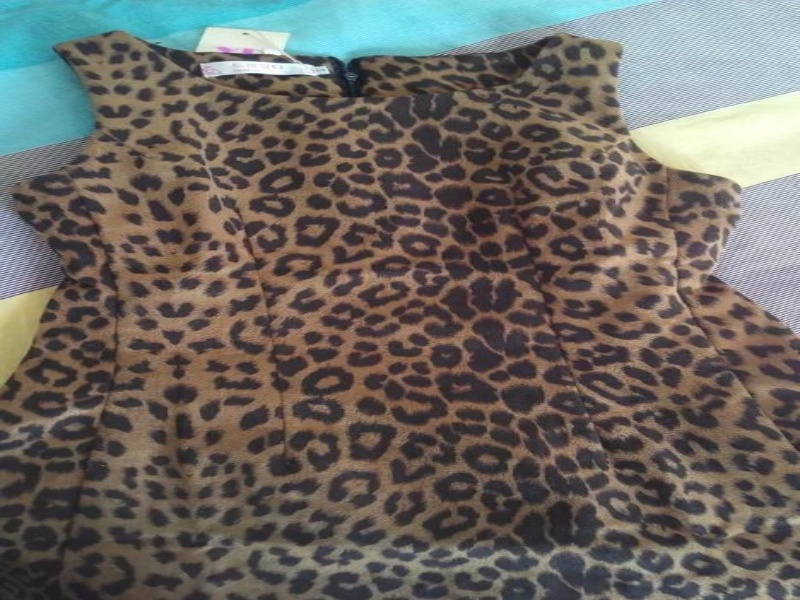vest_dress: (0, 30, 798, 599)
